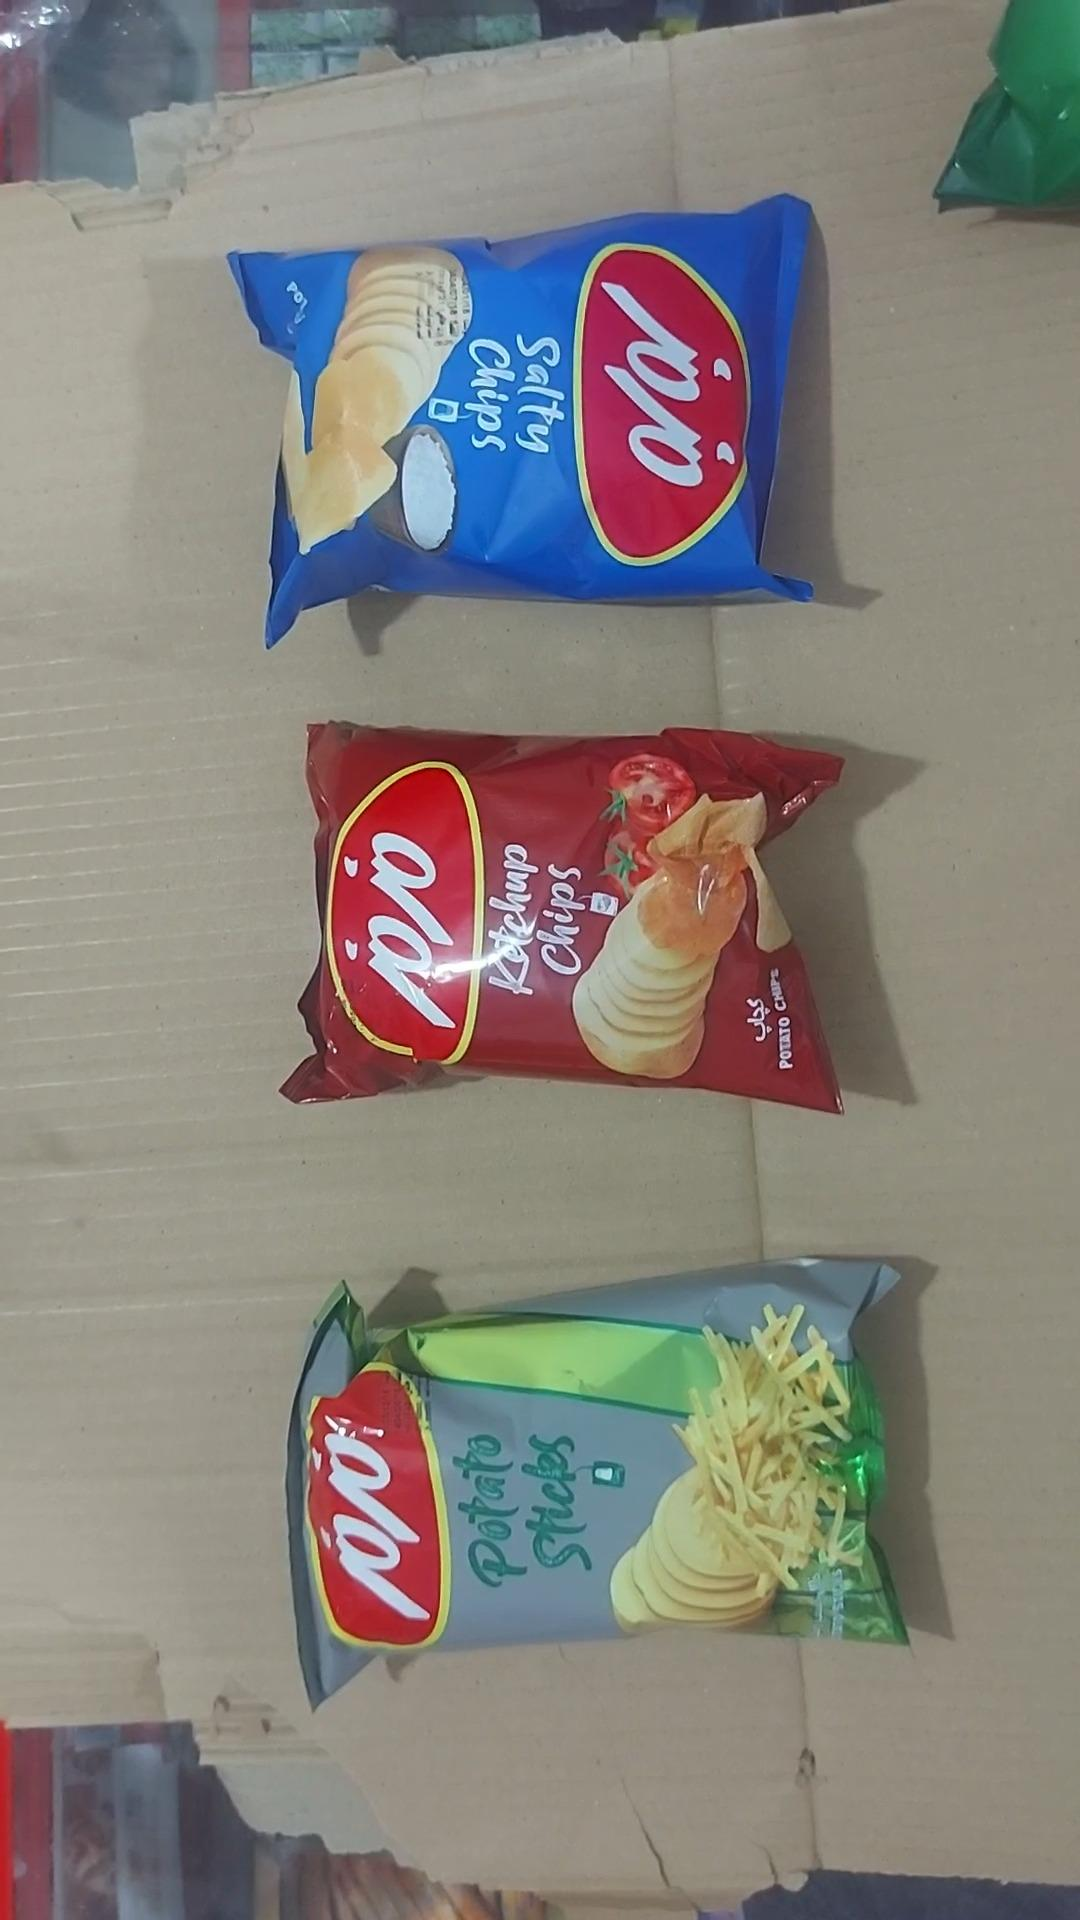Maz Maz ketchup chips: (280, 721, 847, 1114)
Maz Maz potato sticks: (284, 1258, 911, 1713)
Maz Maz salty chips: (224, 195, 818, 649)
